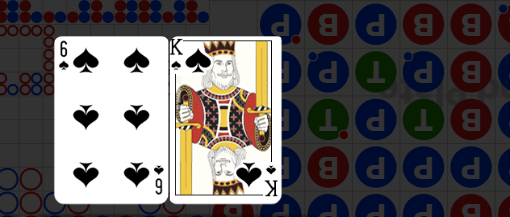6S: (58, 40, 71, 73)
KS: (264, 162, 280, 198)
